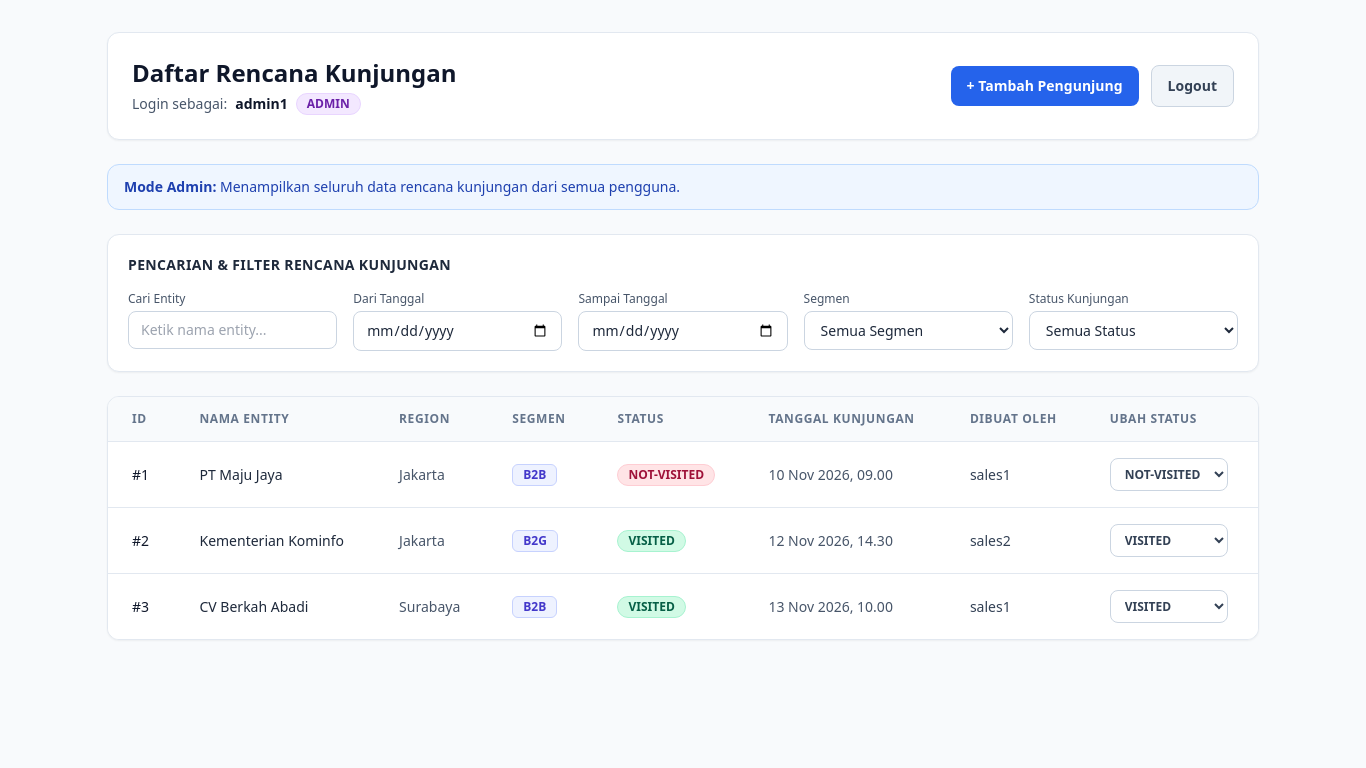
it: PengunjungPage (Halaman Daftar Rencana Kunjungan) › 4. Kombinasi Beberapa Filter Sekaligus & Reset Filter › mengirimkan seluruh parameter filter secara bersamaan dan mereset kembali ke data awal saat tombol Reset Semua Filter diklik
This screenshot has width=1366, height=768.
Check: the text "PT Maju Jaya" is shown, box [176,442,375,508]
Check: the button "reset semua filter" is not shown
Terapkan 5 filter sekaligus (Search + StartDate + EndDate + Segmen + Status)
Type "Berkah" into the field labelled "Cari Entity" at (233, 330), box [128,311,337,349]
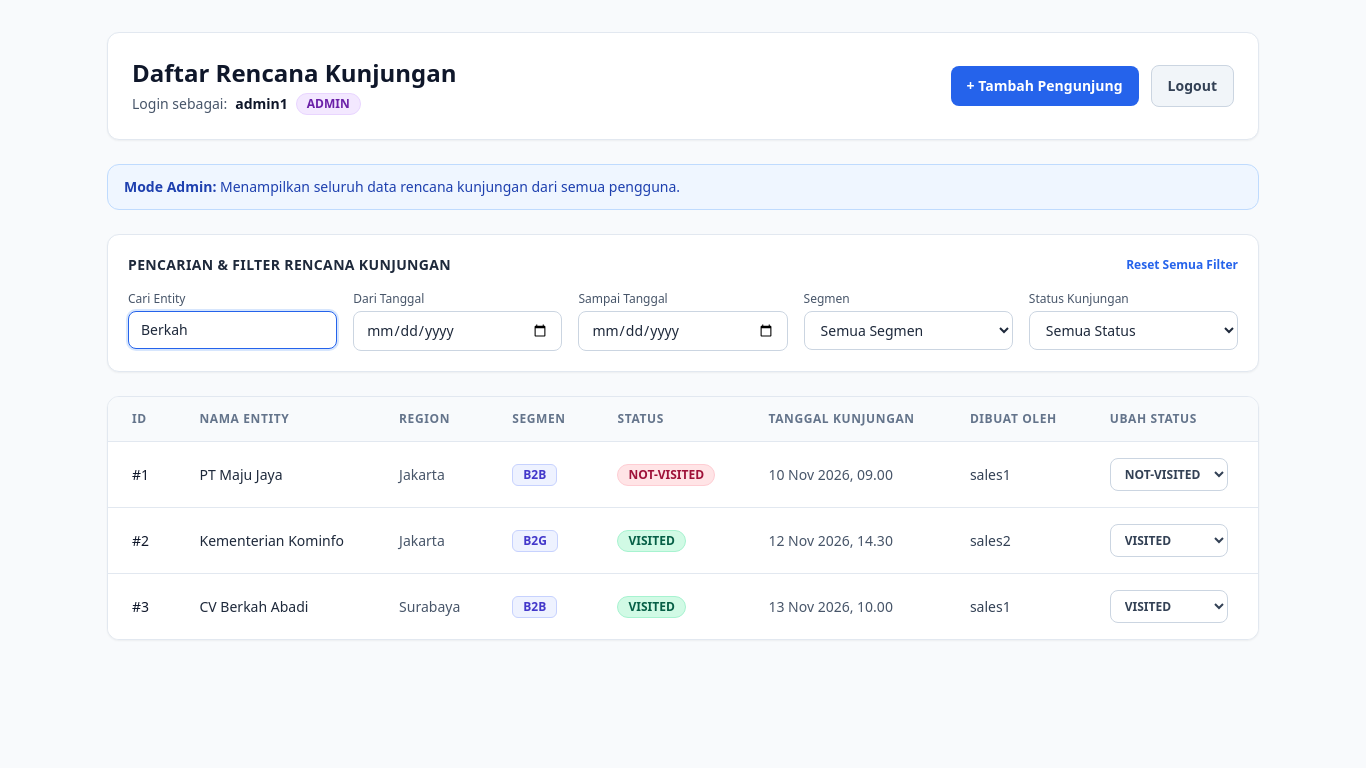
Type "2026-11-01" into the date field labelled "Dari Tanggal" at (458, 331), box [353,311,562,351]
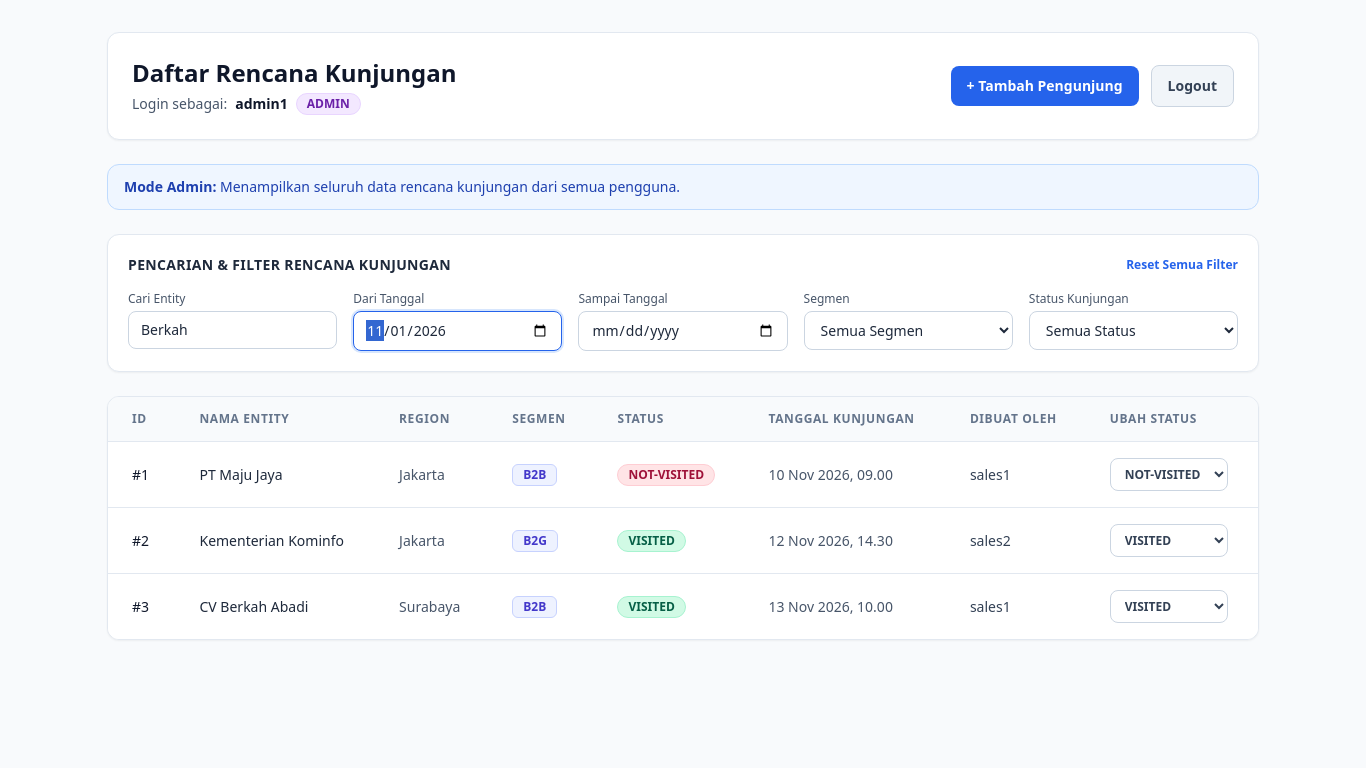
Type "2026-11-30" into the date field labelled "Sampai Tanggal" at (683, 331), box [578,311,788,351]
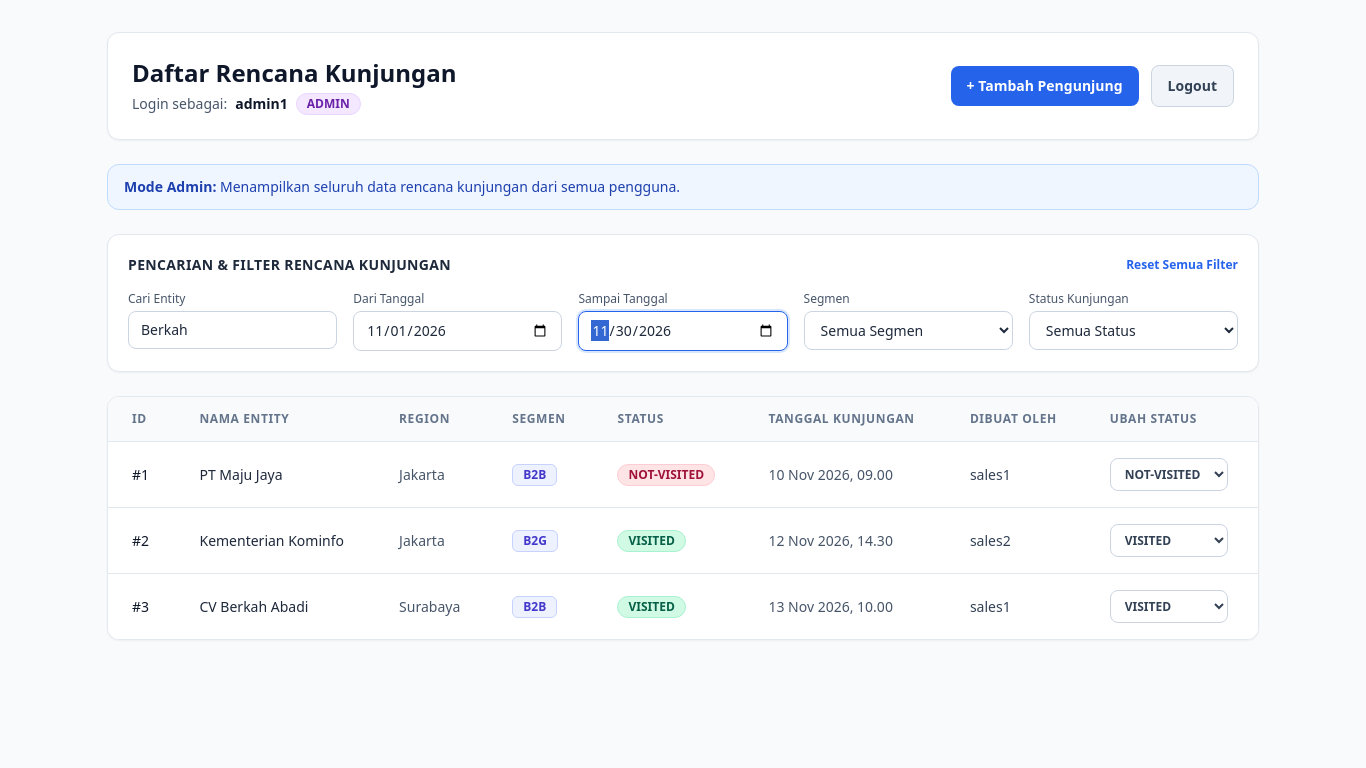
Select "B2B" in the dropdown labelled "Segmen" at (908, 330), box [804,311,1013,350]
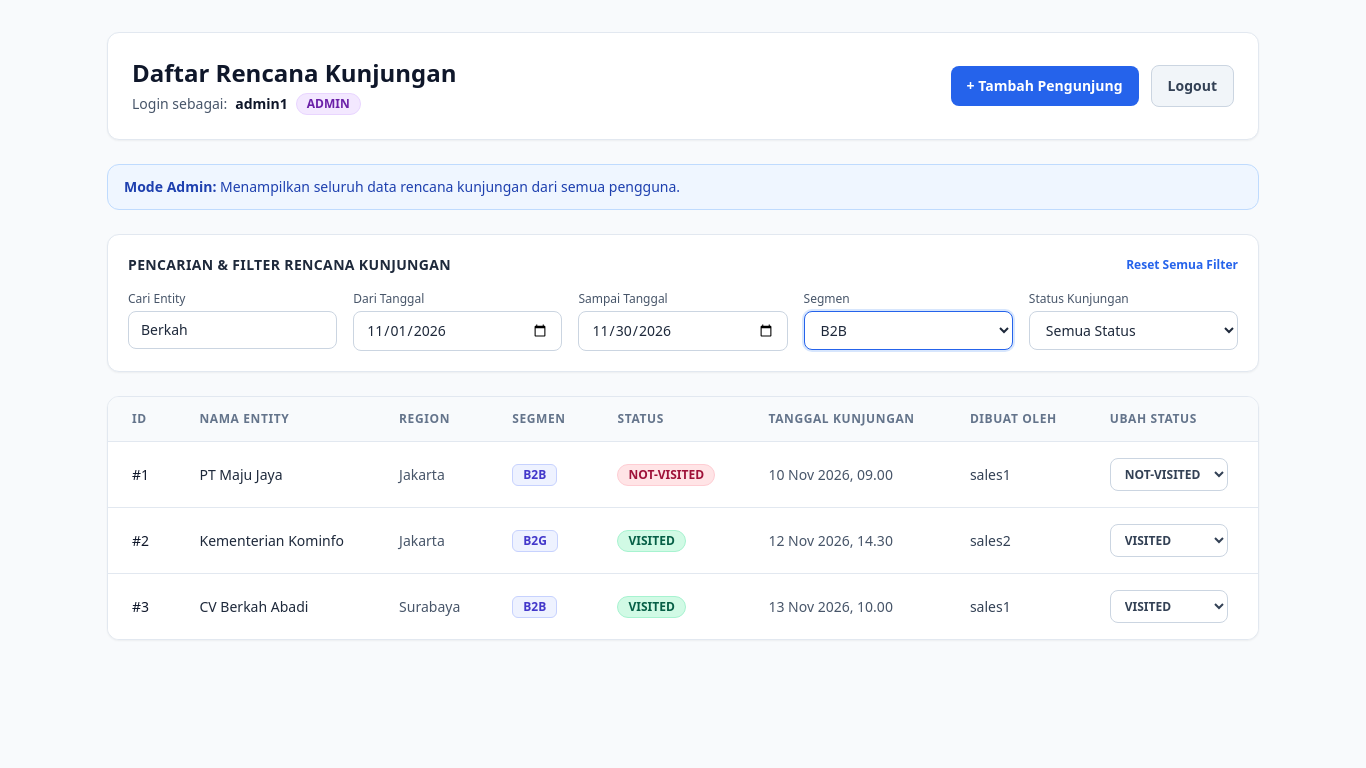
Select "VISITED" in the dropdown labelled "Status Kunjungan" at (1133, 330), box [1029,311,1238,350]
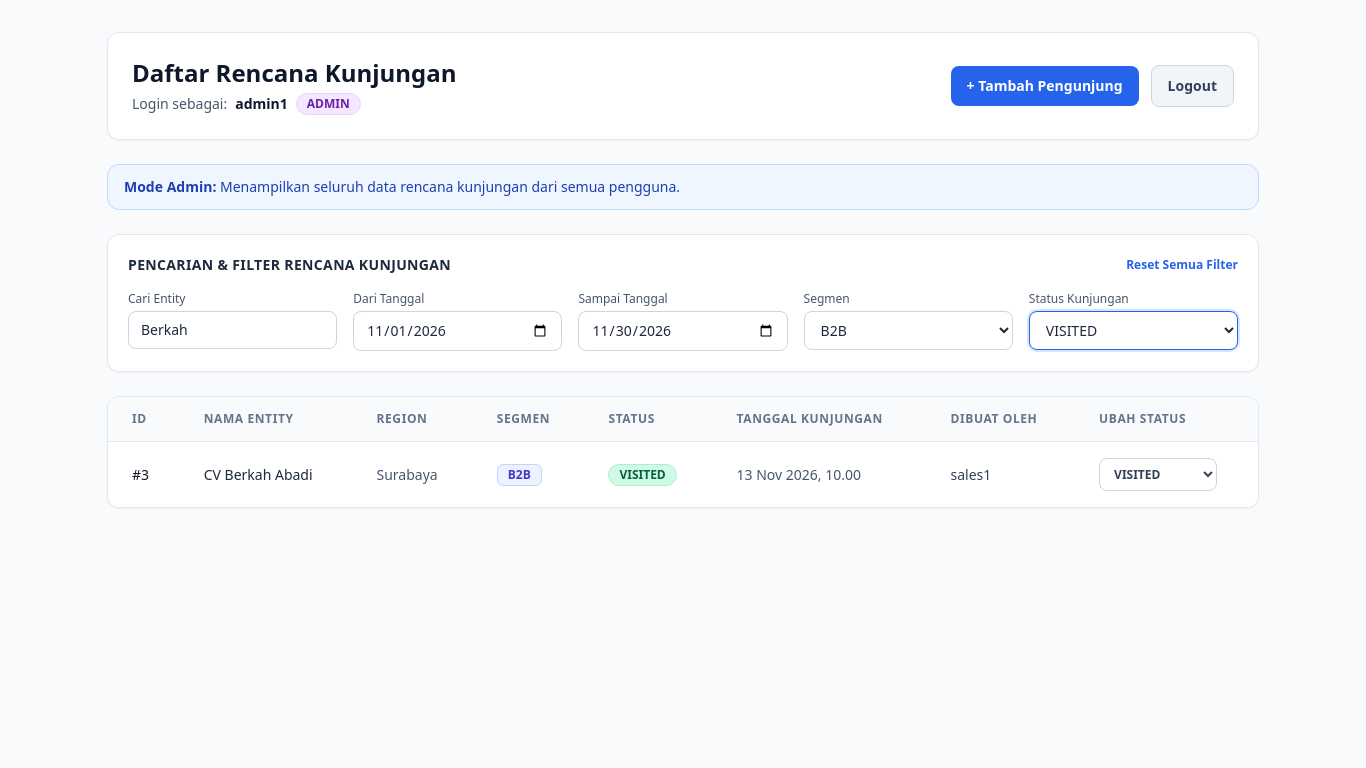
Check: the text "CV Berkah Abadi" is shown, box [180,442,352,507]
Check: the text "PT Maju Jaya" is gone
Click the button "Reset Semua Filter" at (1182, 265), box [1126,257,1238,273]
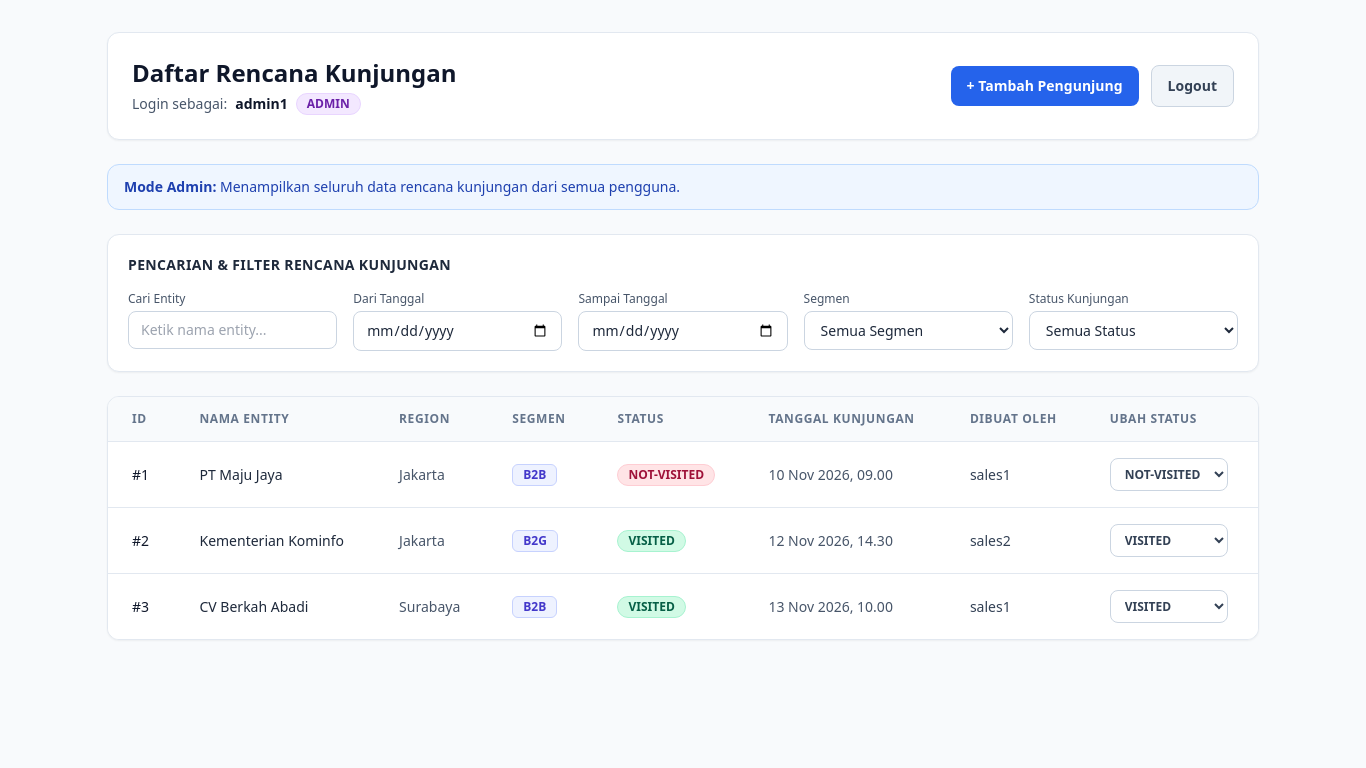
Check: the field labelled "Cari Entity" is empty, box [128,311,337,349]
Check: the text "PT Maju Jaya" is shown, box [176,442,375,508]
Check: the text "Kementerian Kominfo" is shown, box [176,508,375,574]
